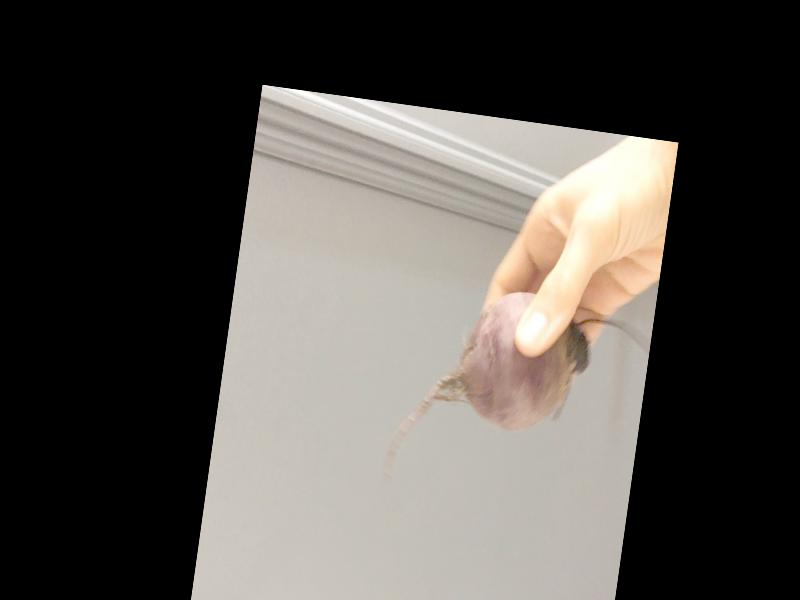Beet: (381, 277, 655, 518)
